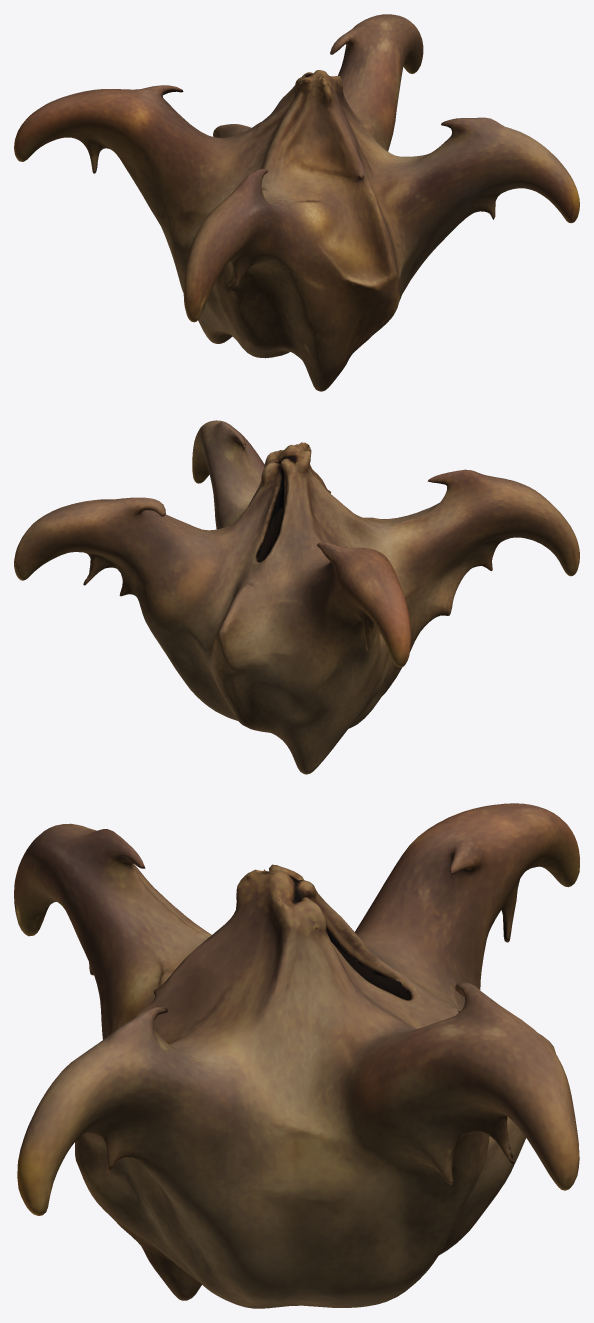
3 renders of one model, top to bottom at view 1: azimuth 30°, elevation 25°; view 2: azimuth 150°, elevation 25°; view 3: azimuth 270°, elevation 25°, orthographic. The views are drawn at different scales.
Parts seen in each view (by area): view 1: world; view 2: world; view 3: world.
Boxes of the visible parts, x1,y1,x2,y2 form: world: (14,14,579,391); world: (14,420,579,774); world: (14,803,579,1308).
Bounding box in the file's own units: 0.055 × 0.0376 × 0.0428.
Materials: 1 (1 with a texture image).
